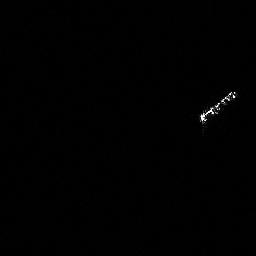ship: (200, 87, 238, 127)
